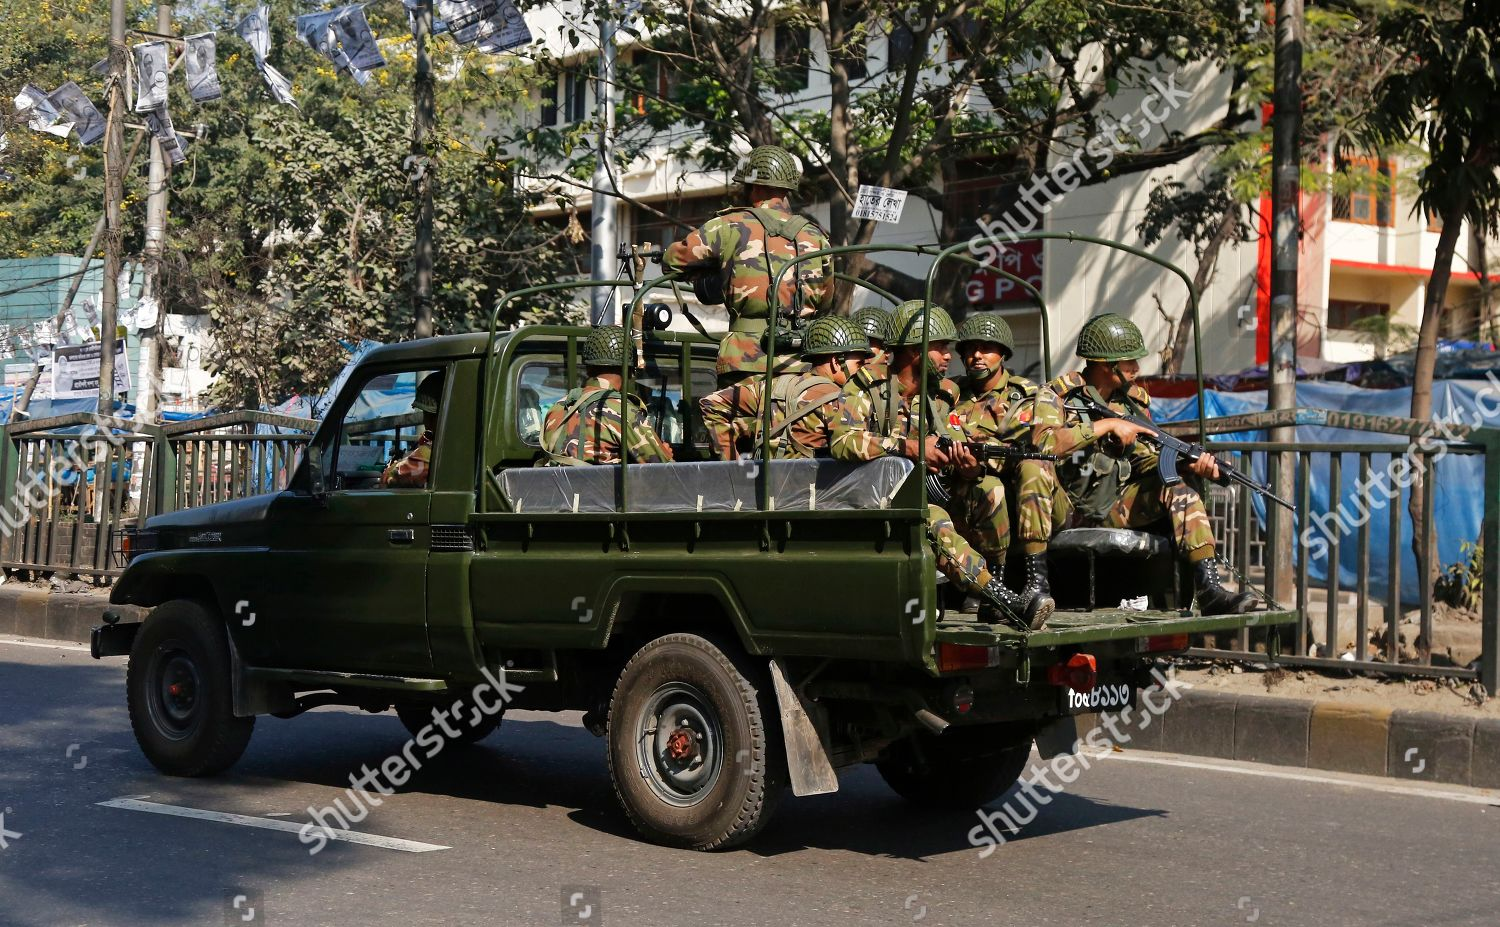army vehicle: (95, 230, 1310, 852)
